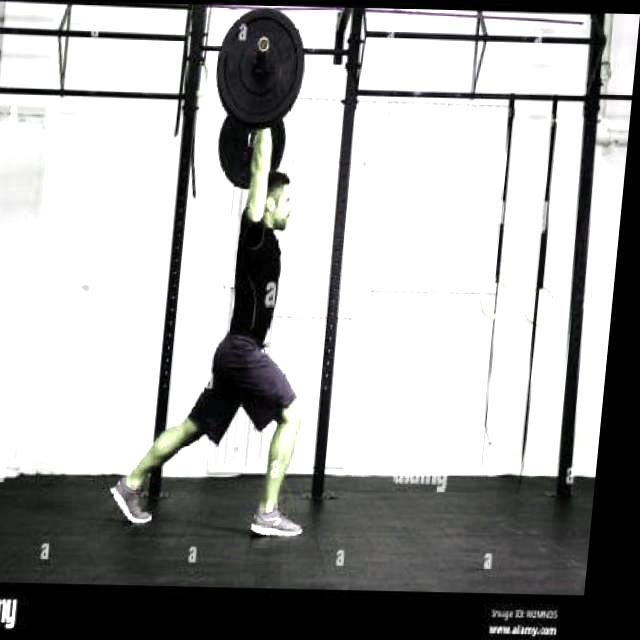barbell: (211, 5, 312, 133)
